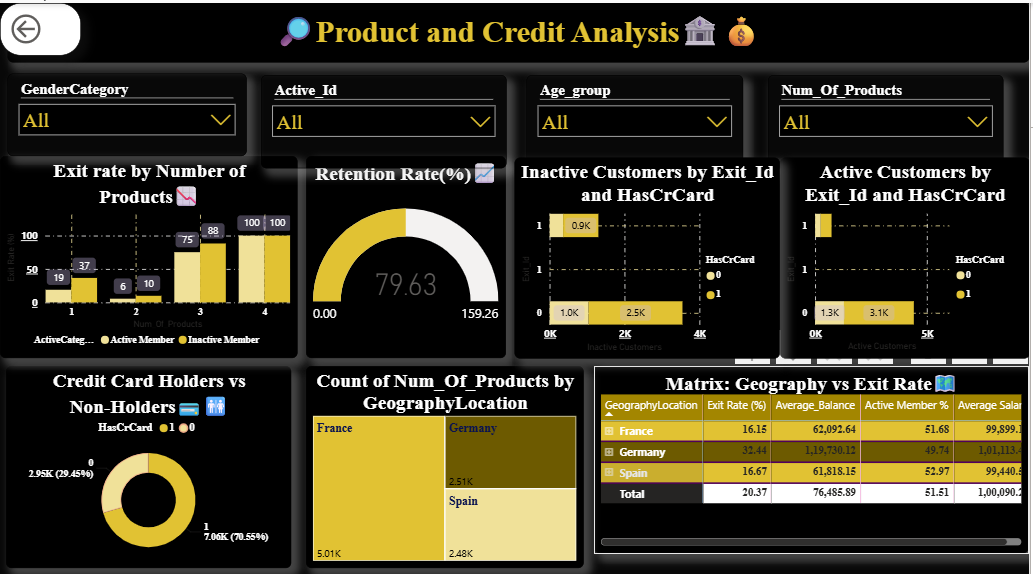

What the dashboard file says about the page in this screenshot:
{"tool":"powerbi","page":{"name":"Product and Credit Analysis","canvas":[1280,720],"ordinal":3},"visuals":[{"type":"textbox","box":[9.6,0,1270.7,74.1],"z":0},{"type":"pieChart","title":"Credit Card Holders vs Non-Holders💳🚻","fields":{"Category":["Bank_Churn.HasCrCard"],"Y":["CountNonNull(Bank_Churn.Customer_Id)"]},"box":[8.3,451.6,354.9,251.4],"z":1000},{"type":"clusteredColumnChart","title":"Exit rate by Number of Products📉","fields":{"Category":["Bank_Churn.Num_Of_Products"],"Y":["Bank_Churn.Exit Rate (%)"],"Series":["ActiveCustomer.ActiveCategory"]},"box":[0,190.6,370.1,251.4],"z":2000},{"type":"pivotTable","title":"Matrix: Geography vs Exit Rate🗺️","fields":{"Rows":["Geography.GeographyLocation","Geography.Geography_Id"],"Values":["Bank_Churn.Exit Rate (%)","Bank_Churn.Average_Balance","Bank_Churn.Active Member %","Bank_Churn.Average Salary"]},"box":[739.4,451.2,540.9,232.4],"z":3000},{"type":"gauge","title":"Retention Rate(%)📈","fields":{"Y":["Bank_Churn.Retention Rate(%)"]},"box":[381.2,190.6,248.6,251.4],"z":4000},{"type":"slicer","fields":{"Values":["Bank_Churn.Num_Of_Products"]},"box":[954.3,89.8,292.8,116],"z":5000},{"type":"slicer","fields":{"Values":["Gender.GenderCategory"]},"box":[9.7,87.5,297.2,102.8],"z":6000},{"type":"slicer","fields":{"Values":["Bank_Churn.Age_group"]},"box":[655.1,89.7,269.1,115.5],"z":7000},{"type":"slicer","fields":{"Values":["Bank_Churn.Active_Id"]},"box":[324.6,89.8,305.2,116],"z":8000},{"type":"treemap","fields":{"Group":["Geography.GeographyLocation"],"Values":["CountNonNull(Bank_Churn.Num_Of_Products)"]},"box":[381.2,451.6,345.3,251.4],"z":9000},{"type":"barChart","fields":{"Series":["Bank_Churn.HasCrCard"],"Category":["ExitCustomer.Exit_Id"],"Y":["Bank_Churn.Active Customers"]},"box":[969.5,192,310.7,250],"z":10000},{"type":"barChart","fields":{"Category":["ExitCustomer.Exit_Id"],"Y":["Bank_Churn.Inactive Customers"],"Series":["Bank_Churn.HasCrCard"]},"box":[638.8,191.6,330.3,250.1],"z":11000},{"type":"actionButton","box":[0,0,100.6,65.2],"z":12000}]}

Visuals, with their boxes in screenshot pixels (x1, y1, x2, y2), scaled from the page's 1280x720 canvas onto the 1033x574 screenshot:
textbox: l=8, t=0, r=1032, b=59
"Credit Card Holders vs Non-Holders💳🚻" pieChart: l=7, t=360, r=293, b=560
"Exit rate by Number of Products📉" clusteredColumnChart: l=0, t=152, r=299, b=352
"Matrix: Geography vs Exit Rate🗺️" pivotTable: l=597, t=360, r=1032, b=545
"Retention Rate(%)📈" gauge: l=308, t=152, r=508, b=352
slicer - Bank_Churn.Num_Of_Products: l=770, t=72, r=1006, b=164
slicer - Gender.GenderCategory: l=8, t=70, r=248, b=152
slicer - Bank_Churn.Age_group: l=529, t=72, r=746, b=164
slicer - Bank_Churn.Active_Id: l=262, t=72, r=508, b=164
treemap - Geography.GeographyLocation x CountNonNull(Bank_Churn.Num_Of_Products): l=308, t=360, r=586, b=560
barChart - Bank_Churn.HasCrCard x ExitCustomer.Exit_Id: l=782, t=153, r=1032, b=352
barChart - ExitCustomer.Exit_Id x Bank_Churn.Inactive Customers: l=516, t=153, r=782, b=352
actionButton: l=0, t=0, r=81, b=52
